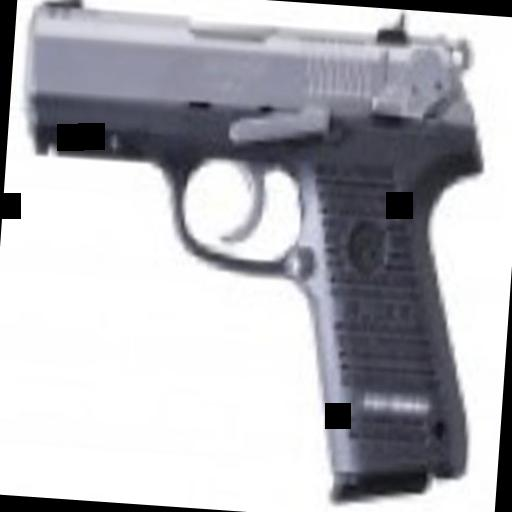Handgun: (0, 0, 499, 508)
